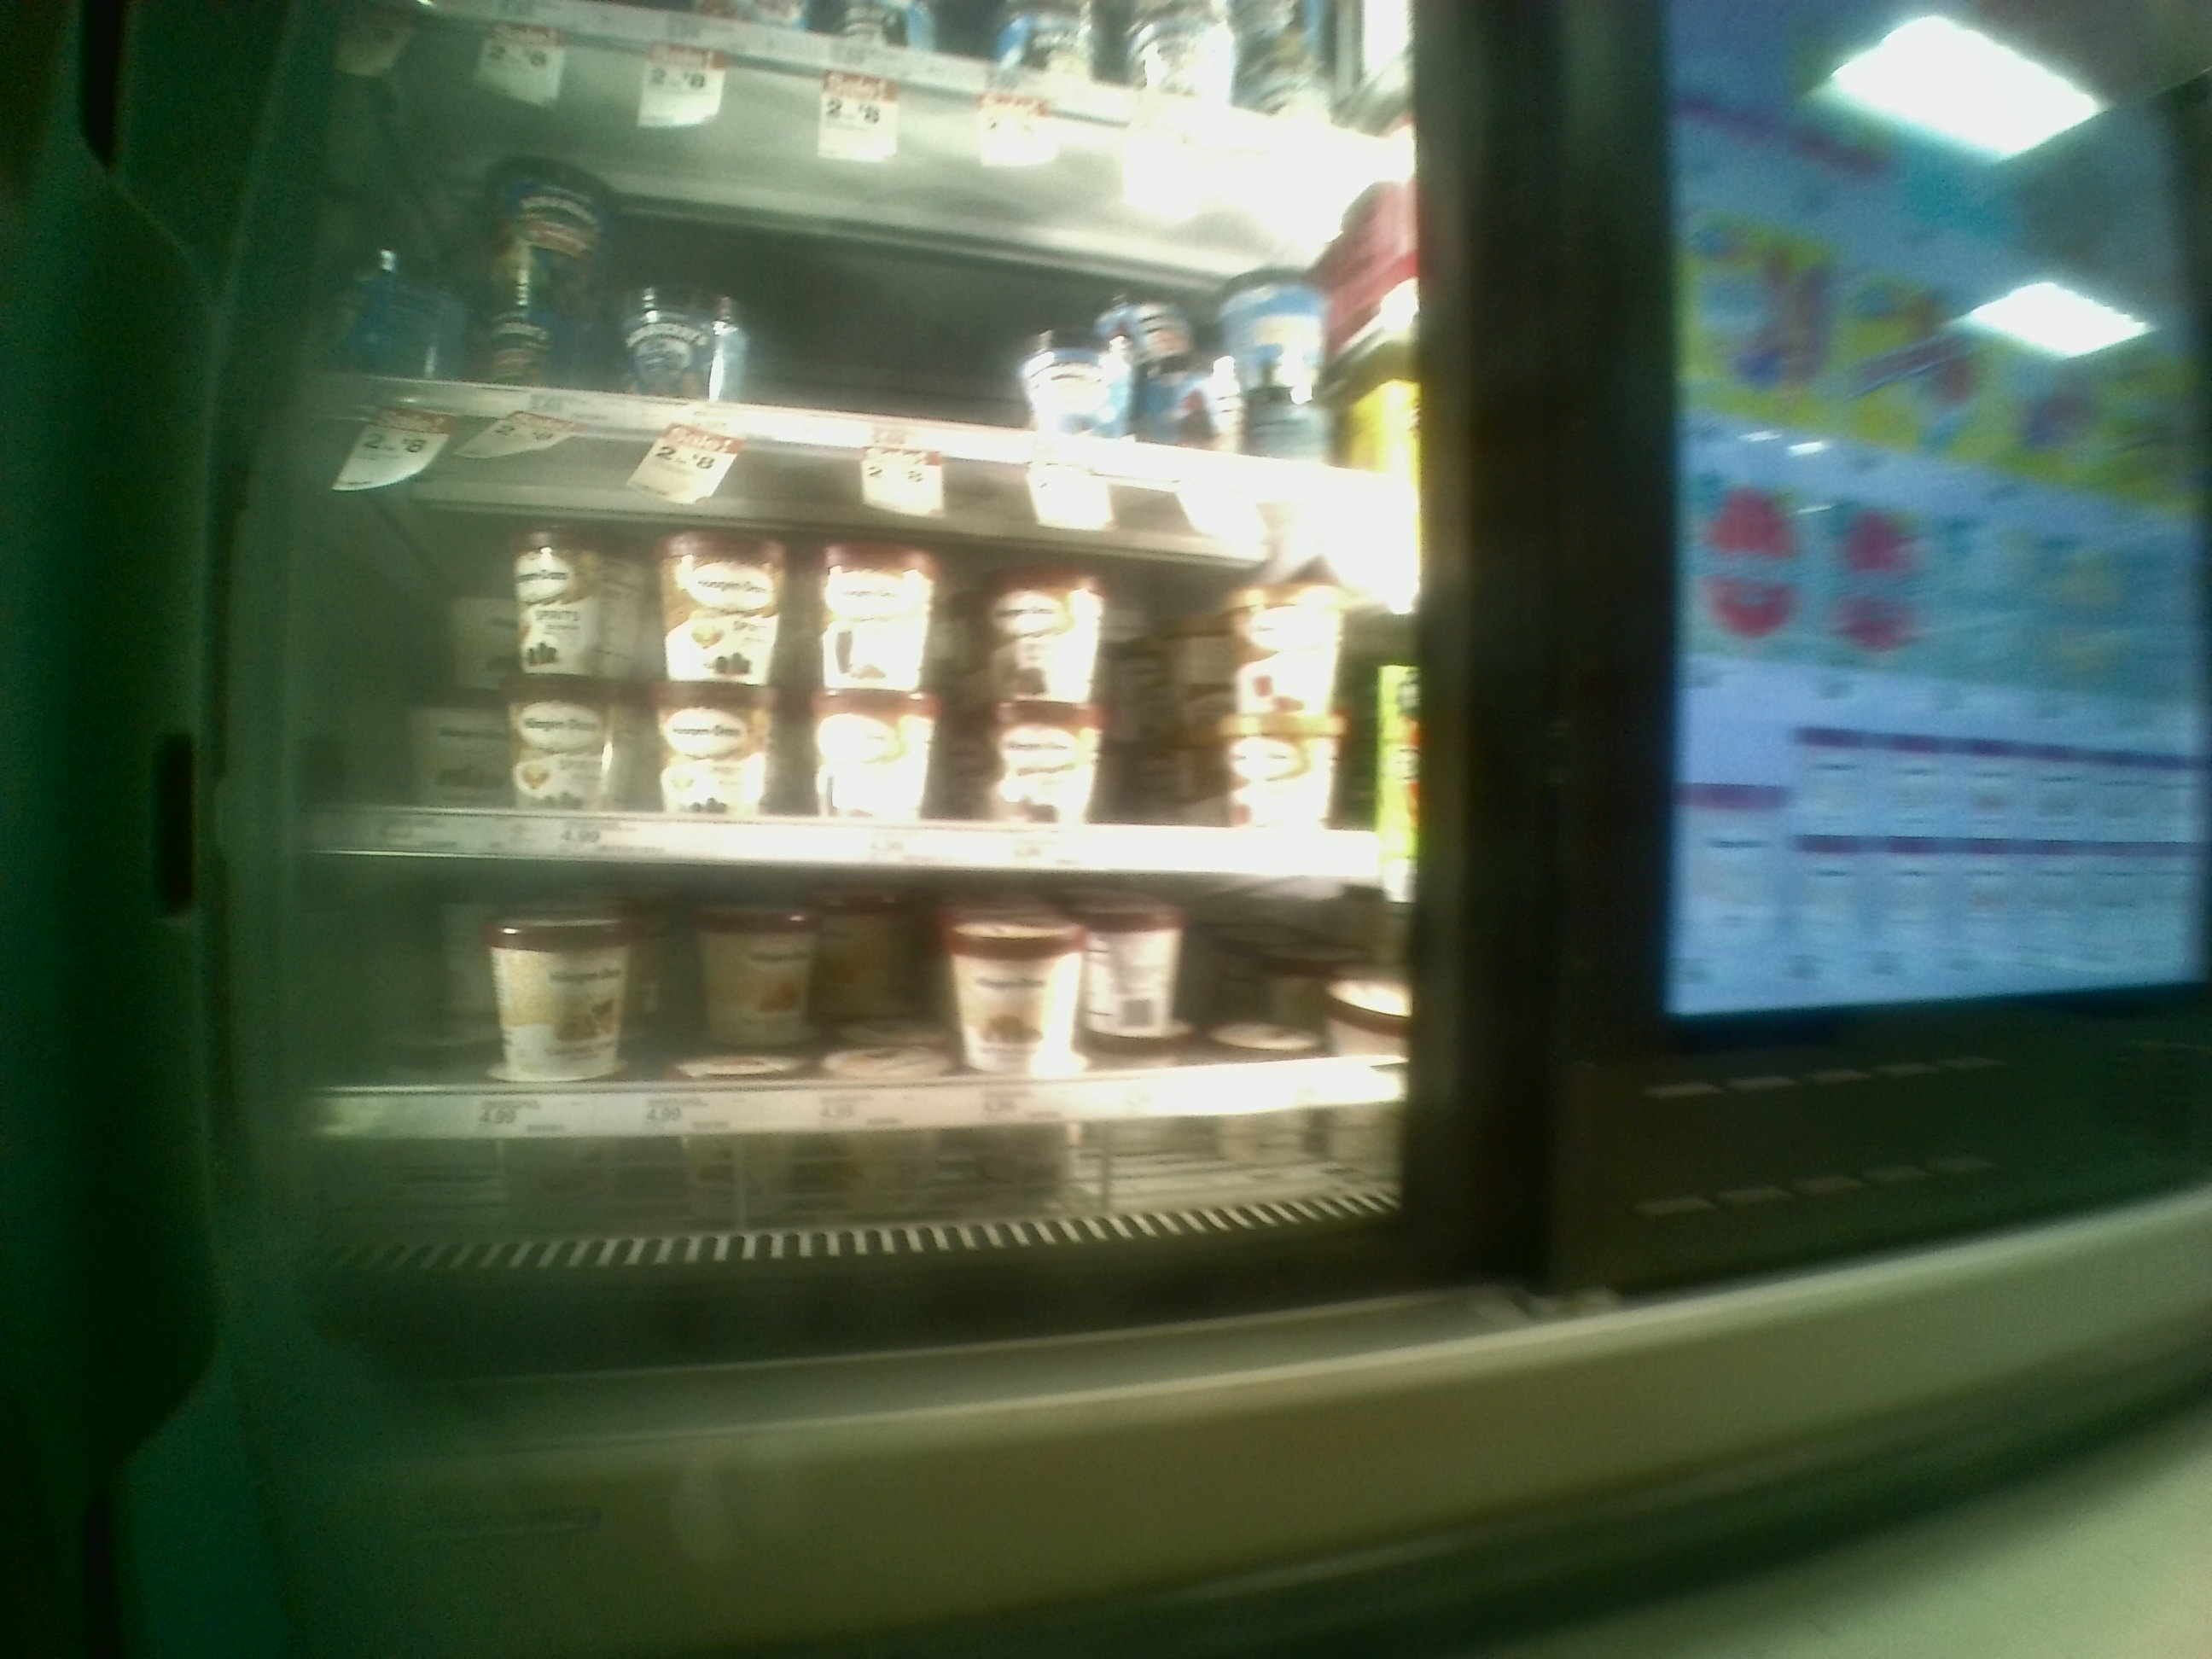shelf: (296, 416, 1411, 877), (303, 864, 1399, 1180)
